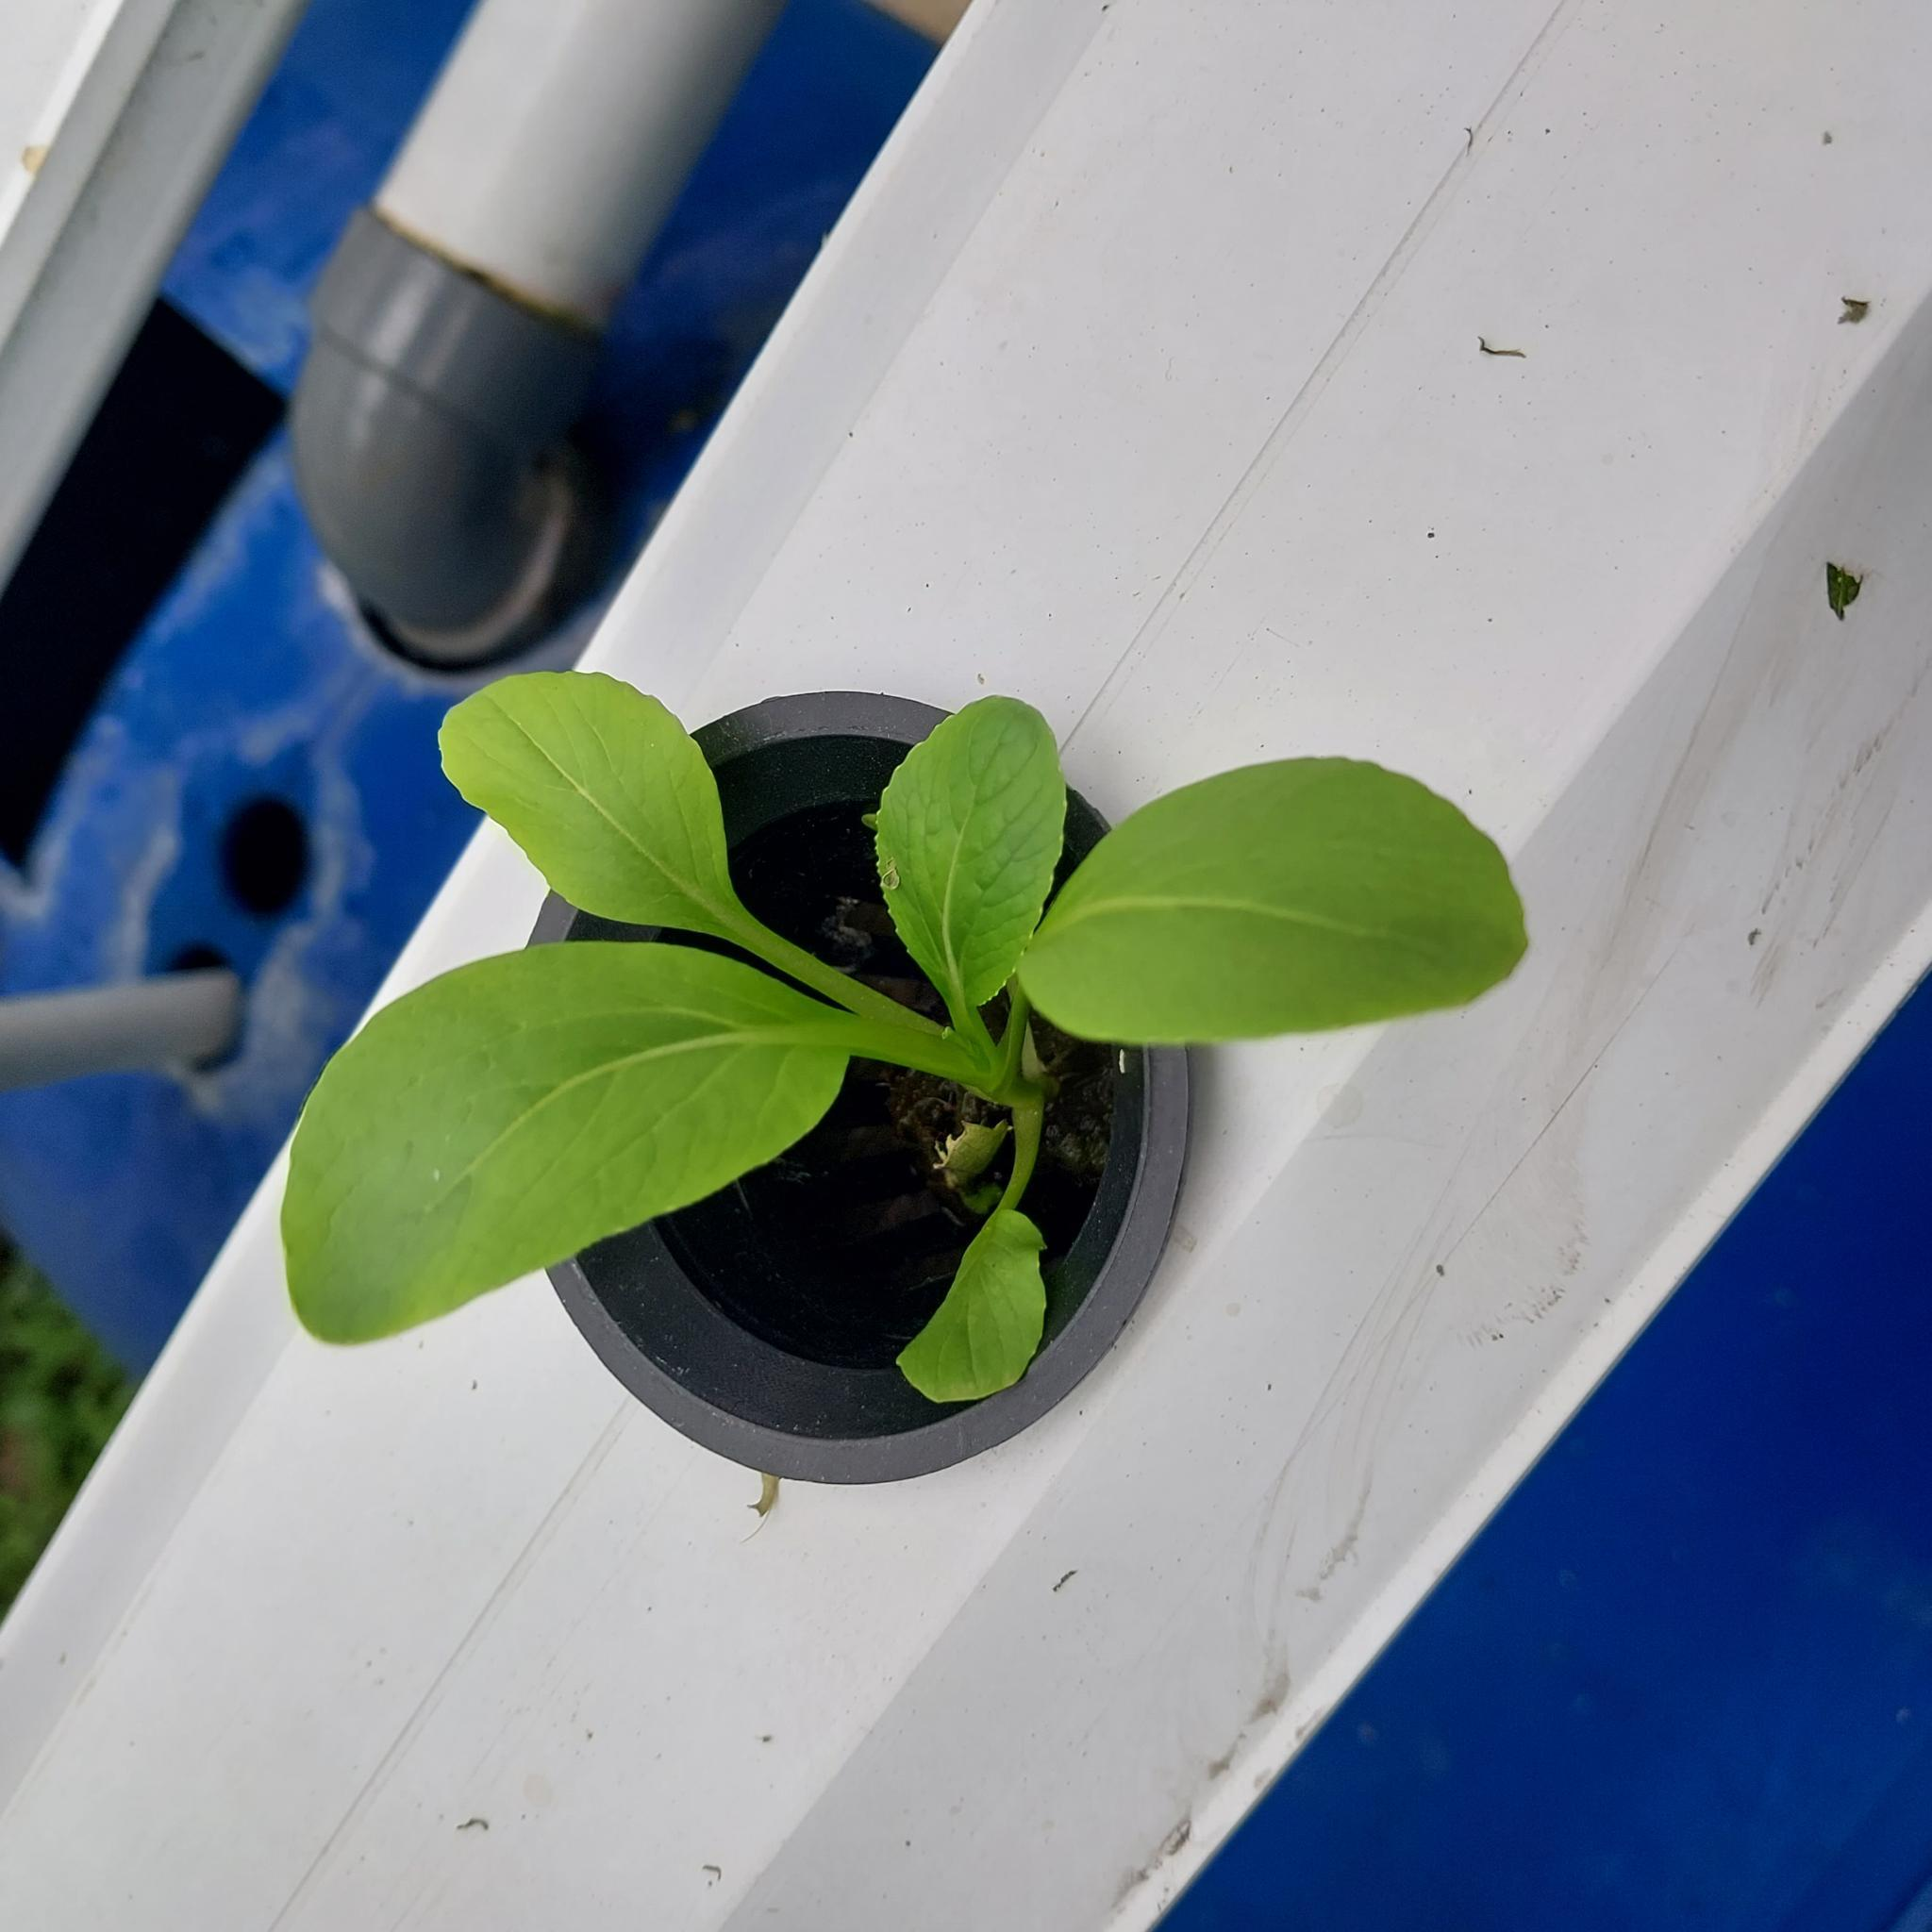Healthy-Pechay: (288, 948, 899, 1353), (1037, 759, 1525, 1042), (433, 669, 809, 975), (867, 695, 1067, 1077), (780, 947, 1000, 1095), (485, 1026, 800, 1127)
